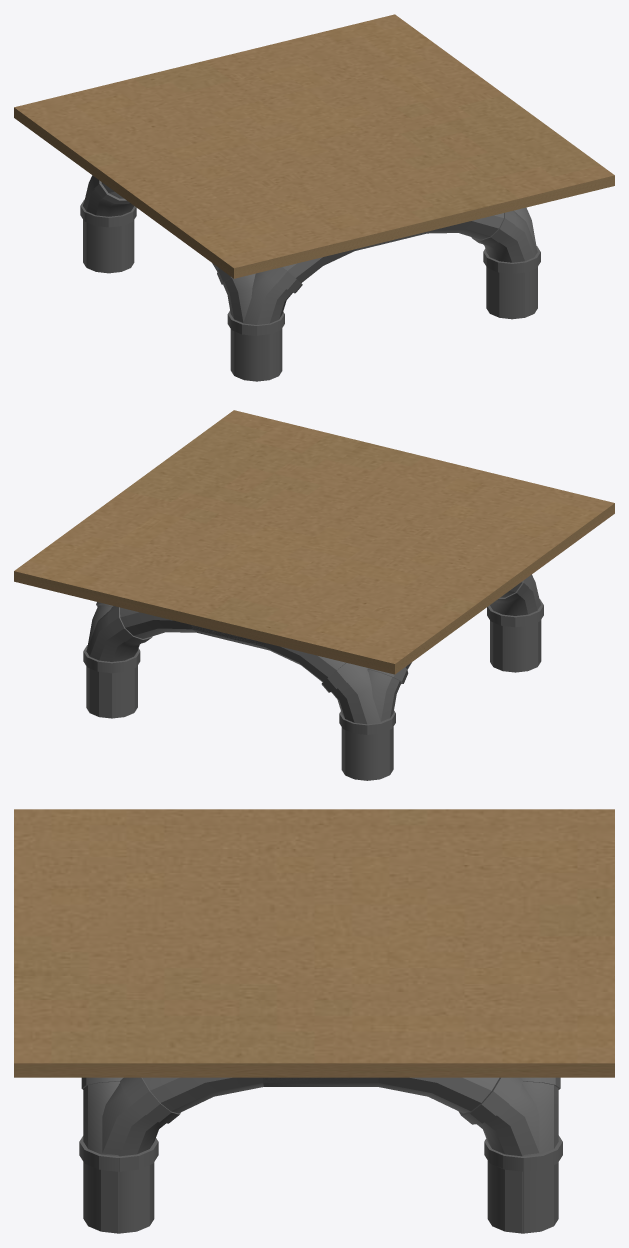
Rendered from Mesa industrial.fbx.
3 views of the same model, one above another, from view 1: azimuth 30°, elevation 25°; view 2: azimuth 150°, elevation 25°; view 3: azimuth 270°, elevation 25° (orthographic). The views are drawn at different scales.
Visible parts, largest first — view 1: Cube, Cylinder; view 2: Cube, Cylinder; view 3: Cube, Cylinder.
Boxes of the visible parts, bbox=[...] form: Cube: bbox=[14, 14, 614, 278]; Cylinder: bbox=[80, 175, 540, 381]; Cube: bbox=[14, 410, 614, 674]; Cylinder: bbox=[83, 574, 543, 780]; Cube: bbox=[14, 809, 614, 1077]; Cylinder: bbox=[79, 1077, 562, 1233].
Size of the model in its own units: 1720 by 627 by 1720.
2 materials, 1 textured.
